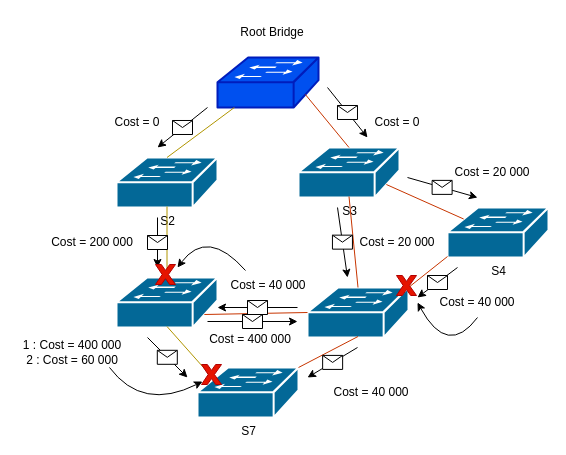
The diagram is 566 pixels wide and 455 high, and some of its shapes have lost their labels. The shapes that lost their labels are listed below. From the top down, each one's centre as x and y in pixels, then its label:
At pixel 166 302: "S5".
At pixel 357 312: "S6".
